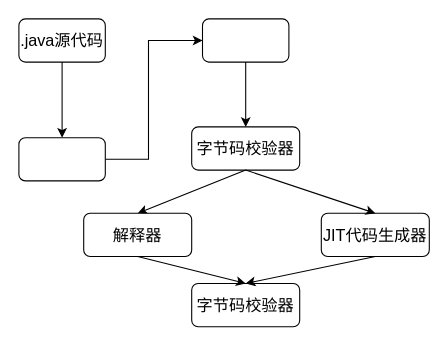
Image size: 448x346. Some labels were removed from this diagram. The shapes that lost their labels are listed below. From the top down, each one's box as (x1, y1, x2, y2) in pixels, then its label:
(201, 18, 289, 62): 类加载器
(18, 137, 105, 181): .class 字节
